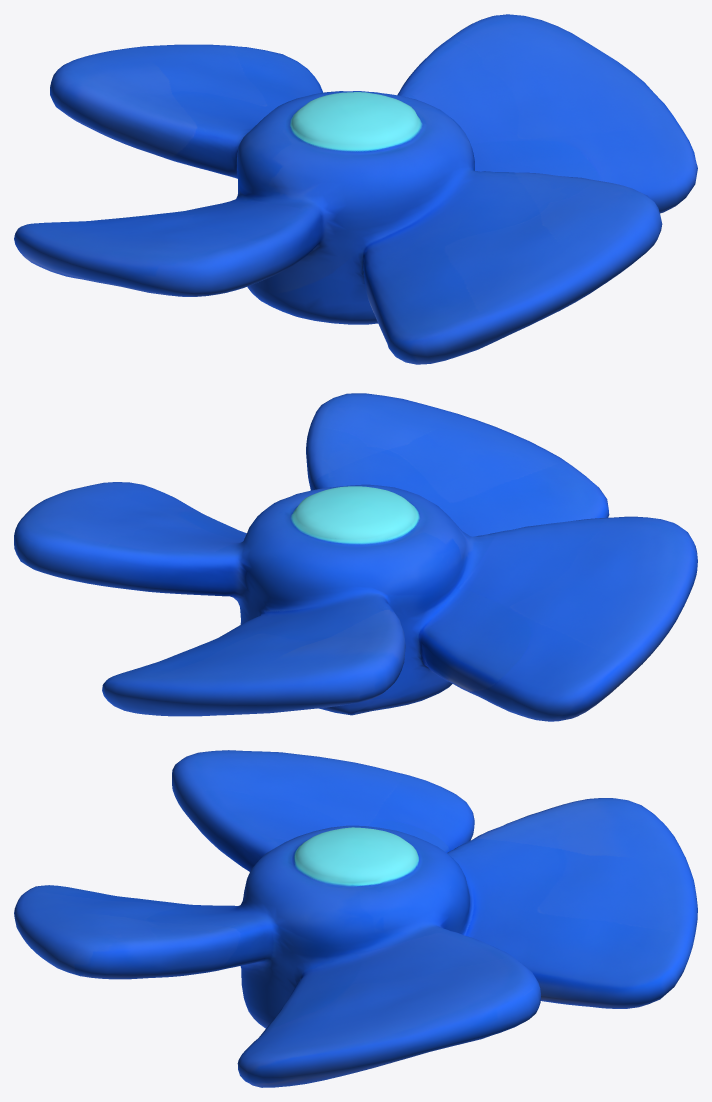
The model's file is Fan.fbx.
3 renders of one model, top to bottom at view 1: azimuth 30°, elevation 25°; view 2: azimuth 150°, elevation 25°; view 3: azimuth 270°, elevation 25°, orthographic. The views are drawn at different scales.
Visible parts, largest first — view 1: Mesh0; view 2: Mesh0; view 3: Mesh0.
Boxes of the visible parts, x1,y1,x2,y2 form: Mesh0: [14, 14, 697, 364]; Mesh0: [14, 393, 697, 721]; Mesh0: [14, 750, 697, 1087].
Size of the model in its own units: 191 by 52.54 by 191.
1 material, 1 textured.
